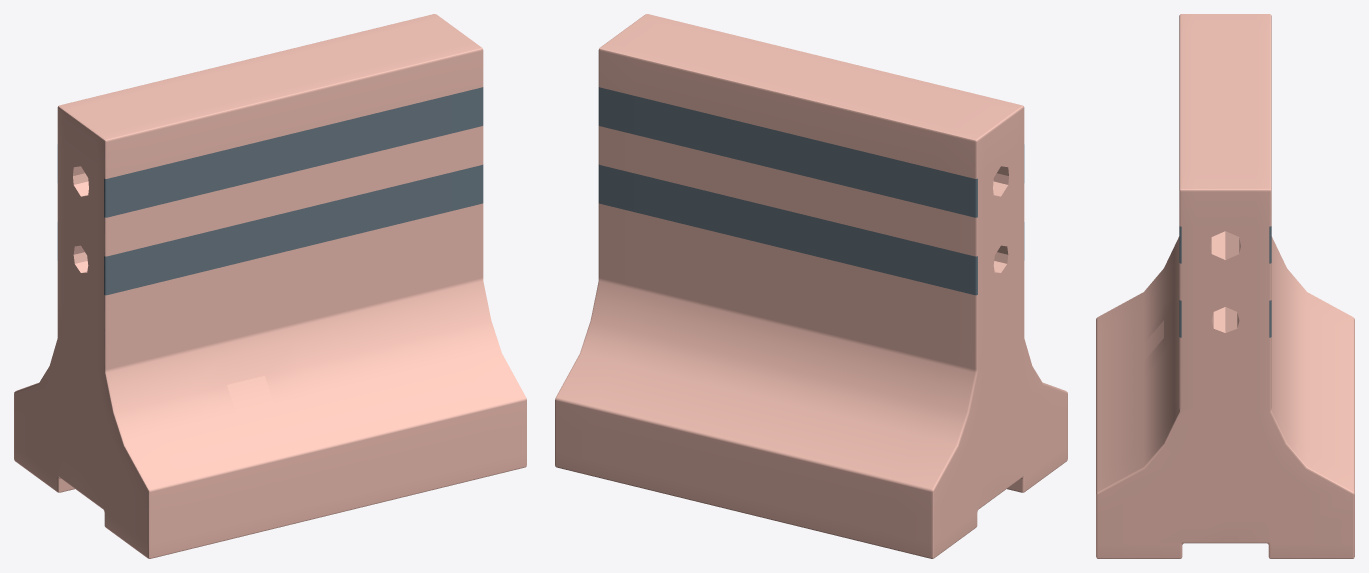
Rendered from pink_base_blue_line.fbx.
3 renders of one model, left to right at view 1: azimuth 30°, elevation 25°; view 2: azimuth 150°, elevation 25°; view 3: azimuth 270°, elevation 25°, orthographic. The views are drawn at different scales.
Visible parts, largest first — view 1: pCube1; view 2: pCube1; view 3: pCube1.
Boxes of the visible parts, bbox=[...] form: pCube1: bbox=[14, 14, 526, 558]; pCube1: bbox=[555, 14, 1067, 558]; pCube1: bbox=[1096, 14, 1354, 558].
Size of the model in its own units: 6.05 by 5.91 by 3.75.
